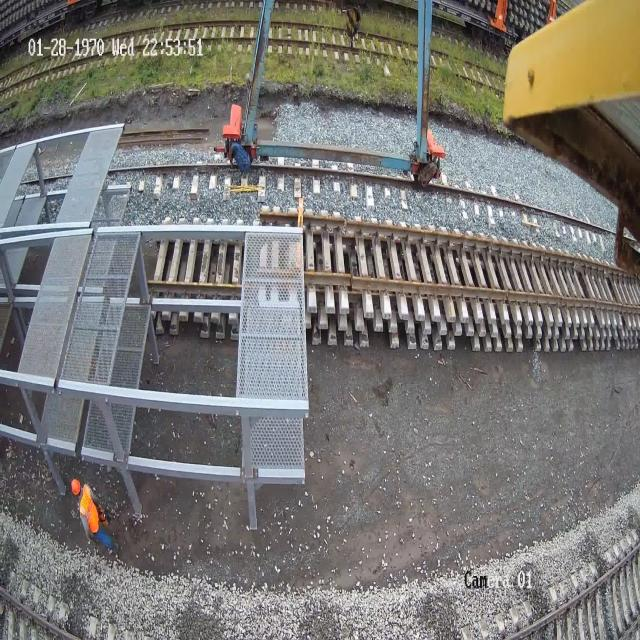Helmet: (71, 479, 80, 495)
Person: (70, 478, 113, 553)
